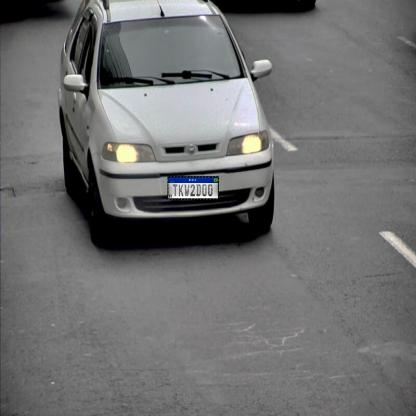PlacaM: (167, 176, 219, 200)
